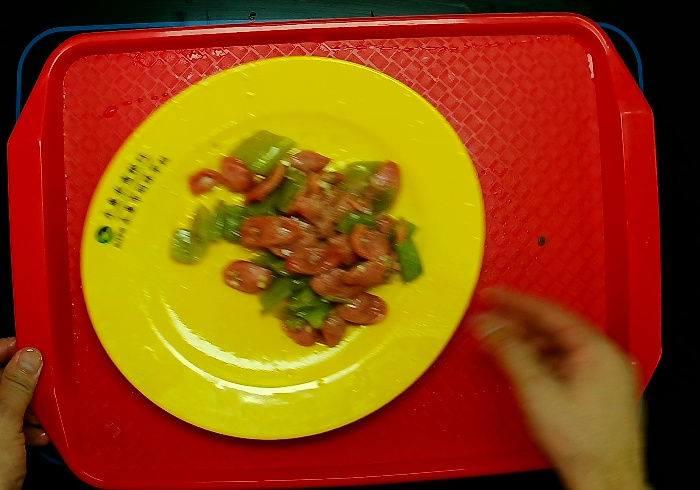YKMZ-Huang_Se_Mian_Pan: (80, 48, 490, 440)
